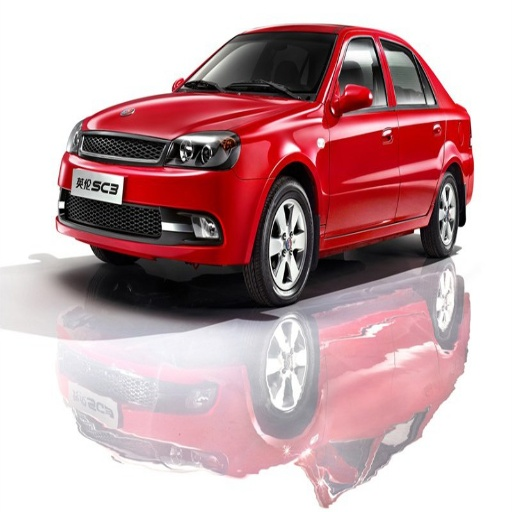front_bumper: (58, 130, 270, 263), (208, 354, 302, 461)
front_glass: (183, 31, 336, 99)
front_left_door: (326, 34, 397, 234)
trunk: (321, 304, 447, 415)
